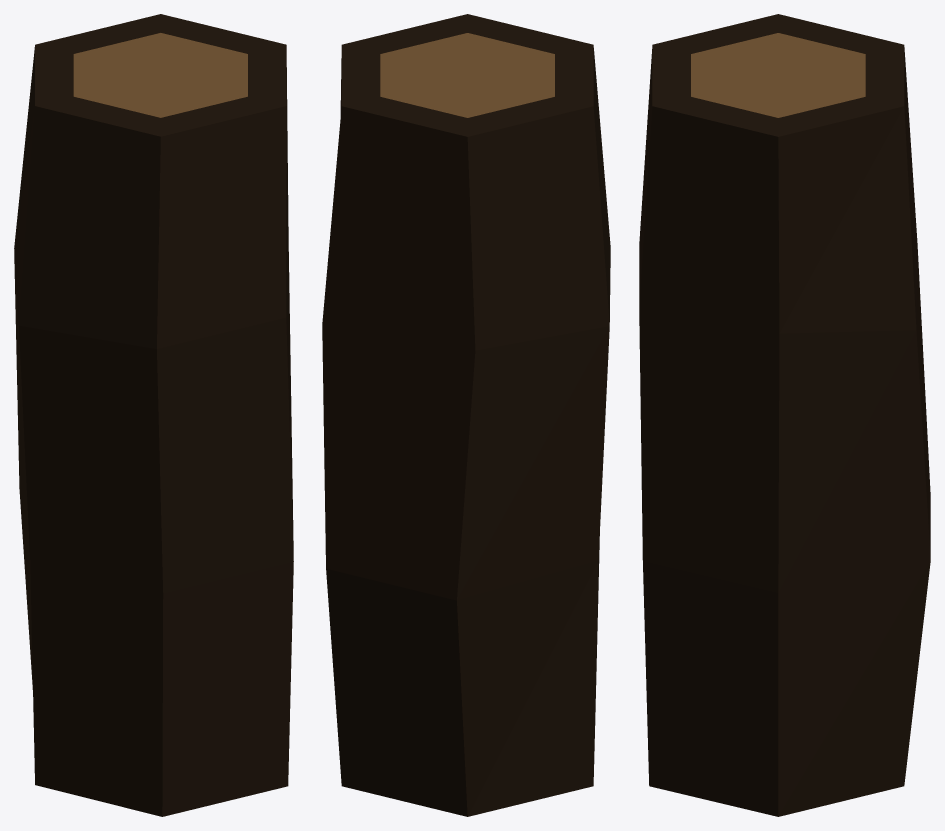
Rendered from Log.FBX.
The picture shows the model from 3 angles, left to right: view 1: azimuth 30°, elevation 25°; view 2: azimuth 150°, elevation 25°; view 3: azimuth 270°, elevation 25°; orthographic projection.
Parts seen in each view (by area): view 1: Log; view 2: Log; view 3: Log.
Boxes of the visible parts, <box> form: Log: <box>14,14,293,816</box>; Log: <box>322,14,610,816</box>; Log: <box>639,14,930,816</box>.
Bounding box in the file's own units: 6.5 × 15.48 × 6.01.
